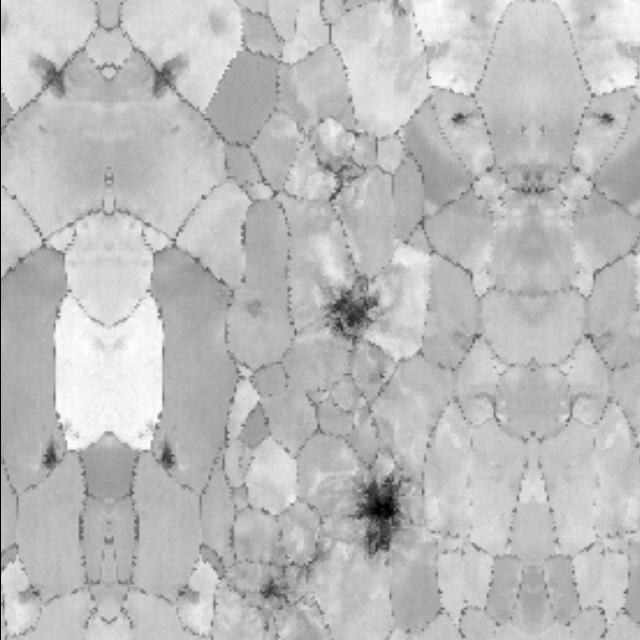good_void: (293, 123, 385, 216), (351, 460, 405, 563), (312, 272, 388, 344), (17, 42, 78, 114), (136, 42, 197, 113), (139, 432, 190, 483), (23, 432, 73, 482), (434, 101, 477, 143), (249, 568, 290, 612), (168, 576, 209, 616), (5, 575, 46, 614), (587, 106, 624, 141), (237, 292, 274, 323)
